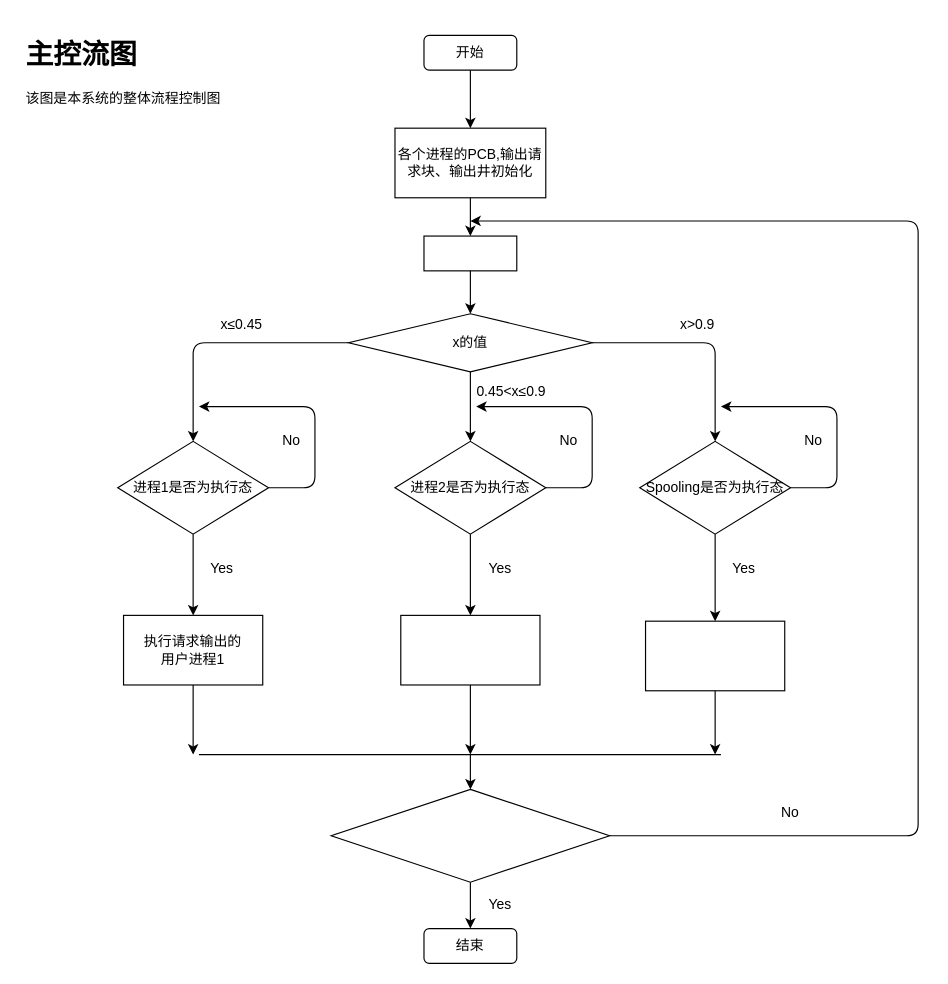
This 948x984 diagram has some shape labels left out. Each missing label, with the box of its shape:
执行SPOOLING: (644, 620, 785, 691)
执行请求输出的 用户进程2: (400, 614, 540, 685)
生成随机数x: (423, 235, 517, 271)
程序是否全部终止: (330, 788, 610, 882)
